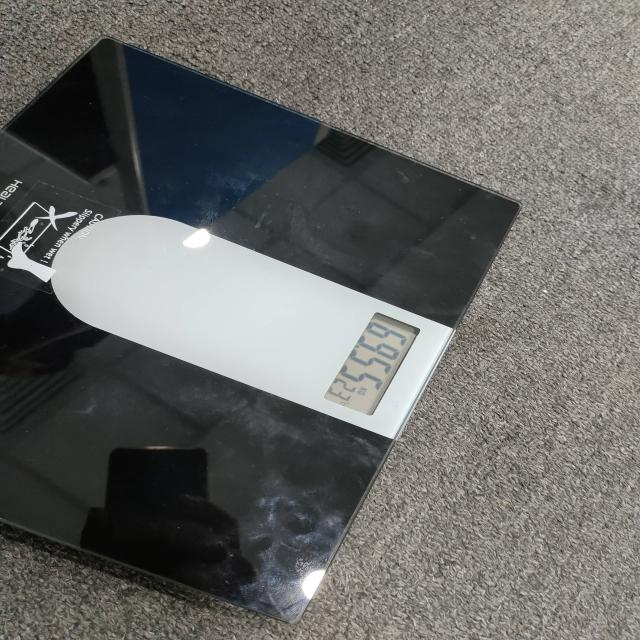ws: (0, 39, 517, 624)
